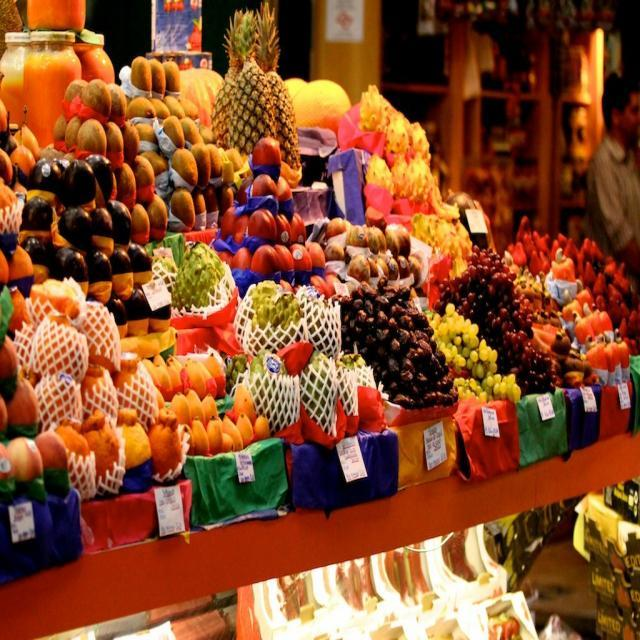Non_Gorille: (3, 0, 640, 636)
